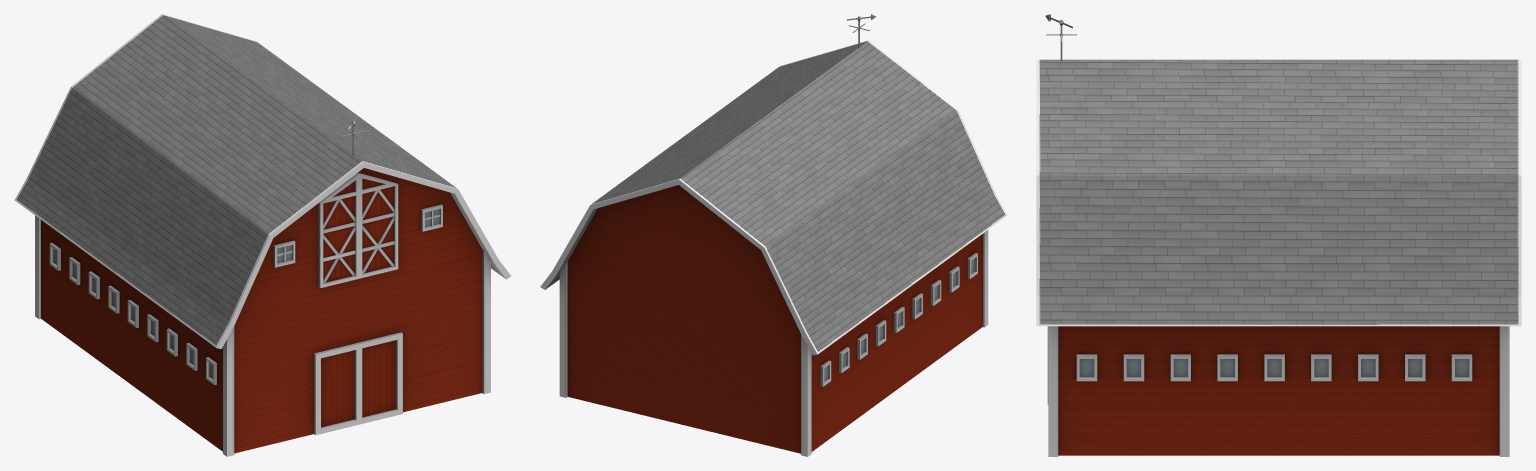
The picture shows the model from 3 angles, left to right: view 1: azimuth 30°, elevation 25°; view 2: azimuth 150°, elevation 25°; view 3: azimuth 270°, elevation 25°; orthographic projection. The views are drawn at different scales.
Visible parts, largest first — view 1: Barn_Mesh; view 2: Barn_Mesh; view 3: Barn_Mesh.
Boxes of the visible parts, box(x1,y1,x2,y2) form: Barn_Mesh: box(14, 14, 511, 456); Barn_Mesh: box(540, 14, 1007, 456); Barn_Mesh: box(1036, 14, 1521, 456).
Bounding box in the file's own units: 8.67 × 8.43 × 10.3.
1 material, 1 textured.
